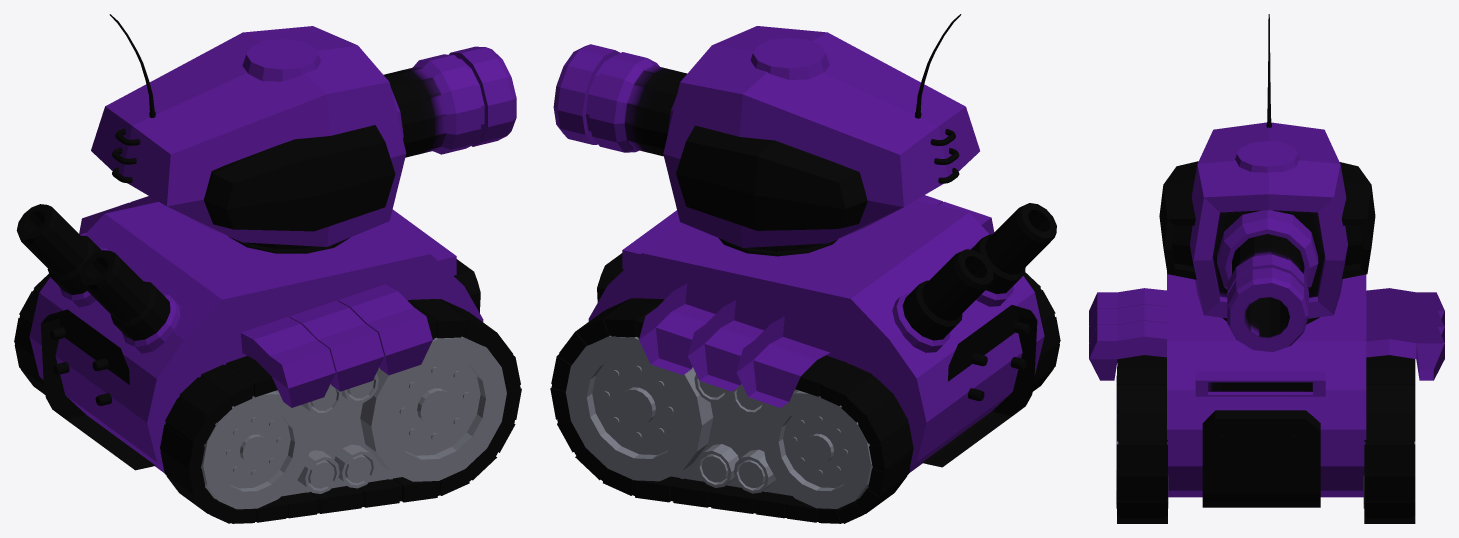
File: tank battle bg.fbx
The picture shows the model from 3 angles, left to right: view 1: azimuth 30°, elevation 25°; view 2: azimuth 150°, elevation 25°; view 3: azimuth 270°, elevation 25°; orthographic projection. The views are drawn at different scales.
Parts seen in each view (by area): view 1: Cube.046; view 2: Cube.046; view 3: Cube.046.
Boxes of the visible parts, x1,y1,x2,y2 form: Cube.046: [14, 14, 521, 523]; Cube.046: [550, 14, 1060, 523]; Cube.046: [1089, 14, 1444, 523].
Bounding box in the file's own units: 58.53 × 60.1 × 47.96.
4 materials, 4 textured.
